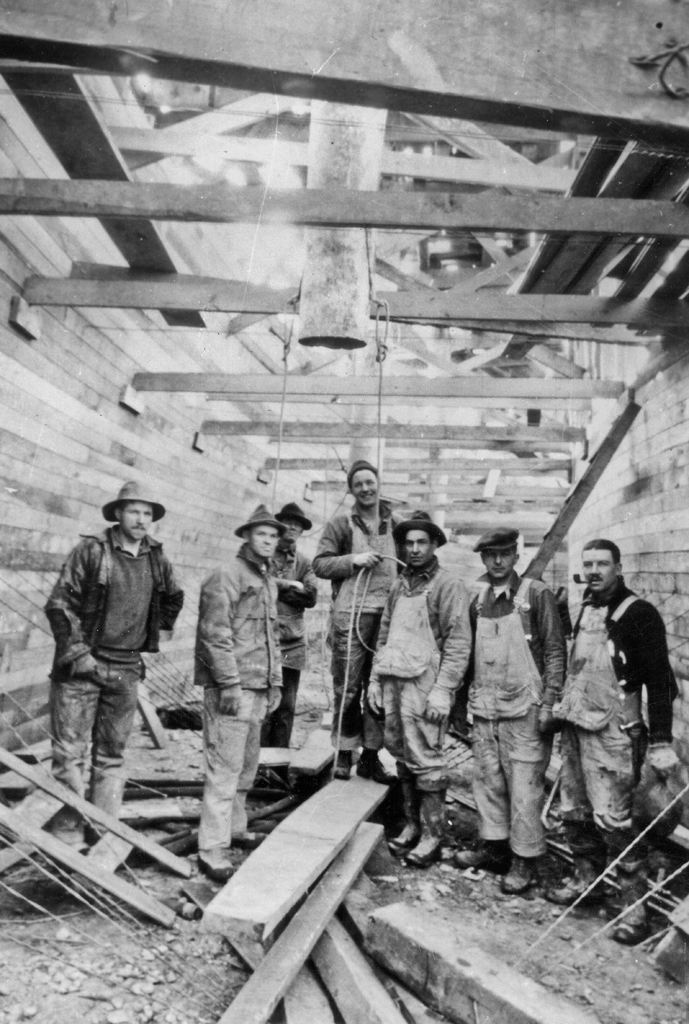Person: (308, 460, 423, 780), (469, 521, 565, 889)
